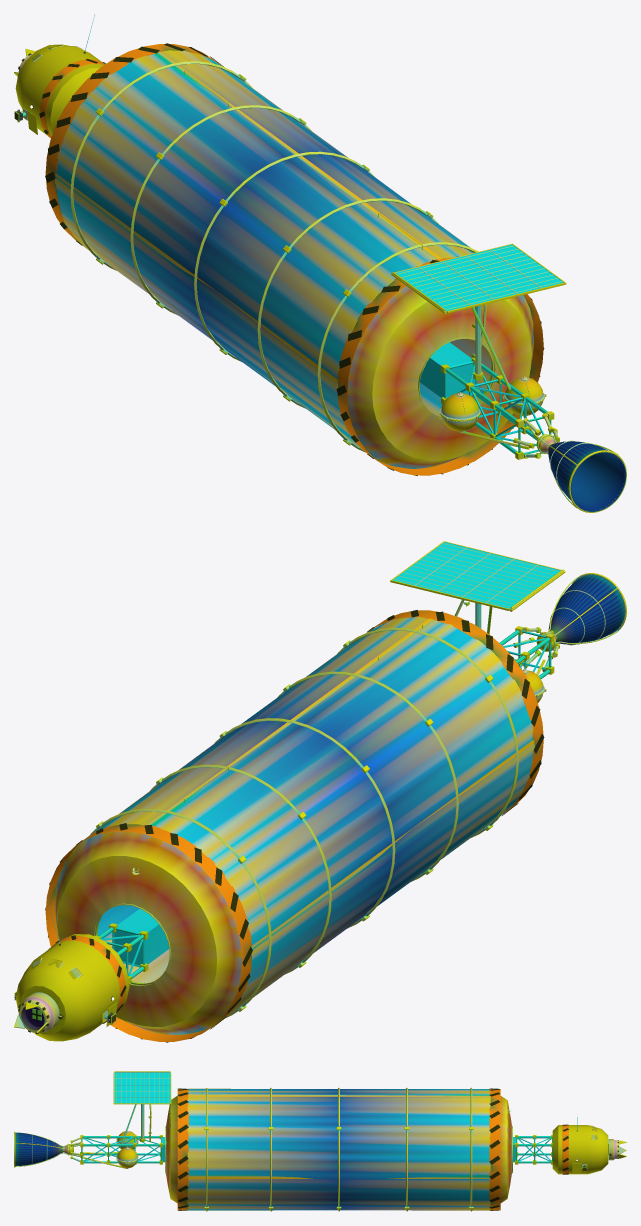
File: hauler.glb
3 renders of one model, top to bottom at view 1: azimuth 30°, elevation 25°; view 2: azimuth 150°, elevation 25°; view 3: azimuth 270°, elevation 25°, orthographic. The views are drawn at different scales.
Visible parts, largest first — view 1: HAULER_BODY, ENGINE_BELL; view 2: HAULER_BODY, ENGINE_BELL; view 3: HAULER_BODY, ENGINE_BELL.
Part boxes in pixels (bbox=[...]): HAULER_BODY: bbox=[14, 14, 566, 475]; ENGINE_BELL: bbox=[536, 434, 626, 512]; HAULER_BODY: bbox=[14, 541, 565, 1042]; ENGINE_BELL: bbox=[536, 573, 626, 651]; HAULER_BODY: bbox=[70, 1071, 626, 1211]; ENGINE_BELL: bbox=[14, 1131, 73, 1167].
Bounding box in the file's own units: 6.58 × 6.97 × 32.45.
